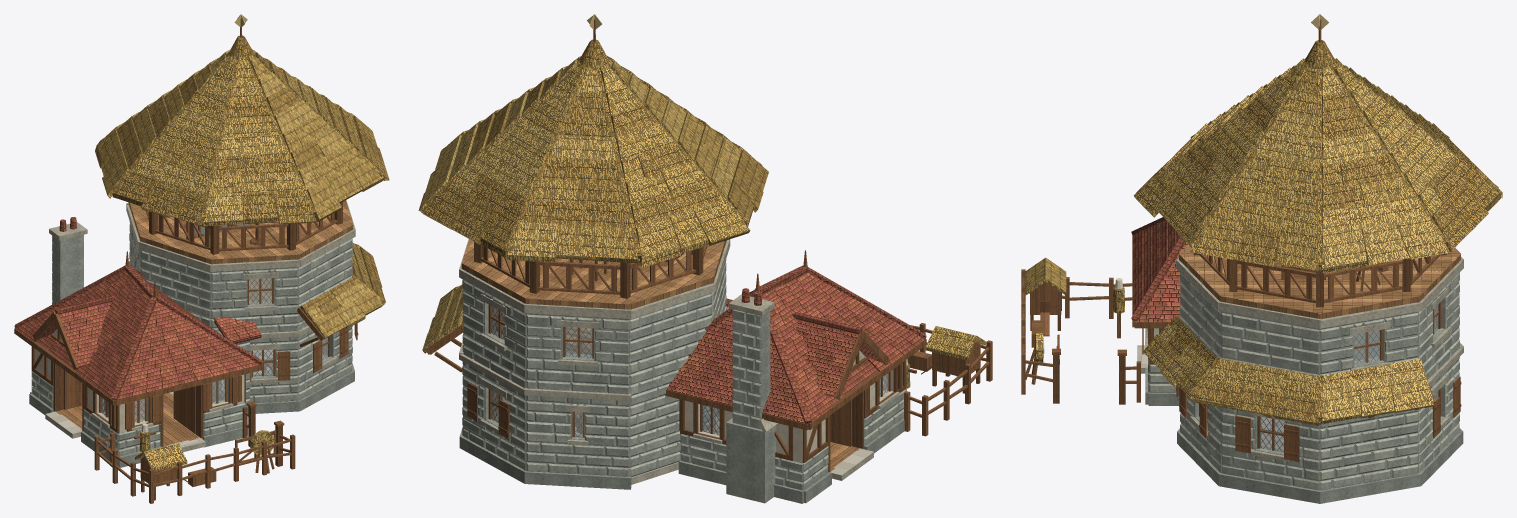
File: mage.glb
3 renders of one model, left to right at view 1: azimuth 30°, elevation 25°; view 2: azimuth 150°, elevation 25°; view 3: azimuth 270°, elevation 25°, orthographic. The views are drawn at different scales.
Parts seen in each view (by area): view 1: Mage_RoofThatch, Mage_Roof, Mage_Shell, Mage_UpperShell, Mage_Yard, Mage_UpperFloorObservatoryTiles, Mage_UpperGallery, Mage_GlazingLeaded, Mage_Door, Mage_UpperFloorObservatory, Mage_FloorGroundTilesBoards, Mage_GlazingLeadedLeads (+2 smaller); view 2: Mage_RoofThatch, Mage_Roof, Mage_Shell, Mage_UpperShell, Mage_UpperFloorObservatoryTiles, Mage_Yard, Mage_UpperGallery, Mage_GlazingLeaded, Mage_UpperFloorObservatory, Mage_GlazingLeadedLeads, Mage_Door, Mage_FloorGround; view 3: Mage_RoofThatch, Mage_Shell, Mage_UpperShell, Mage_Roof, Mage_Yard, Mage_UpperFloorObservatoryTiles, Mage_UpperGallery, Mage_UpperFloorObservatory, Mage_GlazingLeaded, Mage_GlazingLeadedLeads, Mage_FloorGroundTilesFlags.
Part boxes in pixels (box(x1,y1,x2,y2)): Mage_RoofThatch: box(95, 49, 389, 339); Mage_Roof: box(14, 14, 384, 405); Mage_Shell: box(29, 323, 358, 467); Mage_UpperShell: box(126, 200, 355, 332); Mage_Yard: box(94, 401, 295, 503); Mage_UpperFloorObservatoryTiles: box(130, 200, 353, 259); Mage_UpperGallery: box(146, 202, 342, 254); Mage_GlazingLeaded: box(101, 278, 327, 423); Mage_Door: box(64, 370, 195, 433); Mage_UpperFloorObservatory: box(128, 202, 353, 264); Mage_FloorGroundTilesBoards: box(56, 393, 199, 446); Mage_GlazingLeadedLeads: box(101, 278, 328, 422); Mage_RoofThatch: box(418, 56, 768, 353); Mage_Roof: box(425, 14, 926, 503); Mage_Shell: box(459, 307, 906, 503); Mage_UpperShell: box(459, 239, 730, 395); Mage_UpperFloorObservatoryTiles: box(462, 239, 724, 303); Mage_Yard: box(904, 323, 992, 436); Mage_UpperGallery: box(474, 242, 707, 298); Mage_GlazingLeaded: box(491, 306, 888, 436); Mage_UpperFloorObservatory: box(461, 240, 726, 309); Mage_GlazingLeadedLeads: box(491, 306, 888, 437); Mage_Door: box(830, 400, 851, 446); Mage_FloorGround: box(631, 448, 873, 484); Mage_RoofThatch: box(1133, 58, 1502, 425); Mage_Shell: box(1142, 328, 1463, 503); Mage_UpperShell: box(1176, 257, 1463, 379); Mage_Roof: box(1131, 14, 1498, 424); Mage_Yard: box(1021, 257, 1140, 404); Mage_UpperFloorObservatoryTiles: box(1179, 244, 1460, 313); Mage_UpperGallery: box(1193, 253, 1446, 307); Mage_UpperFloorObservatory: box(1179, 254, 1460, 318); Mage_GlazingLeaded: box(1260, 304, 1438, 451); Mage_GlazingLeadedLeads: box(1207, 306, 1438, 452); Mage_FloorGroundTilesFlags: box(1137, 345, 1285, 448).
Bounding box in the file's own units: 14.65 × 14.43 × 14.62.
34 materials, 24 textured.
